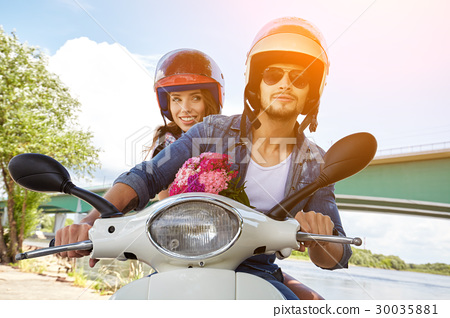helmet: (239, 30, 330, 111), (153, 49, 221, 104)
